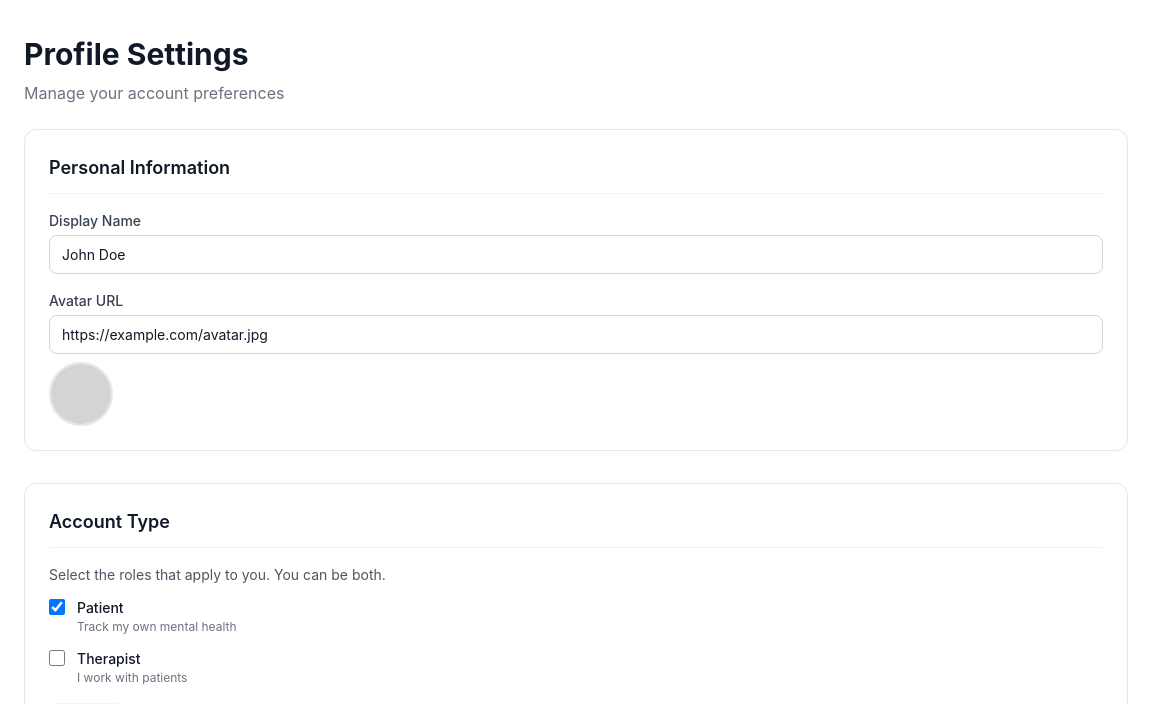
Test case: ProfileView › shows a validation error when all roles are deselected
This screenshot has width=1152, height=704.
What coordinates should you click on to do the following:
click the checkbox labelled "Patient Track my own mental health"
I would click on:
 (57, 607)
Its box is [49,599,65,615].
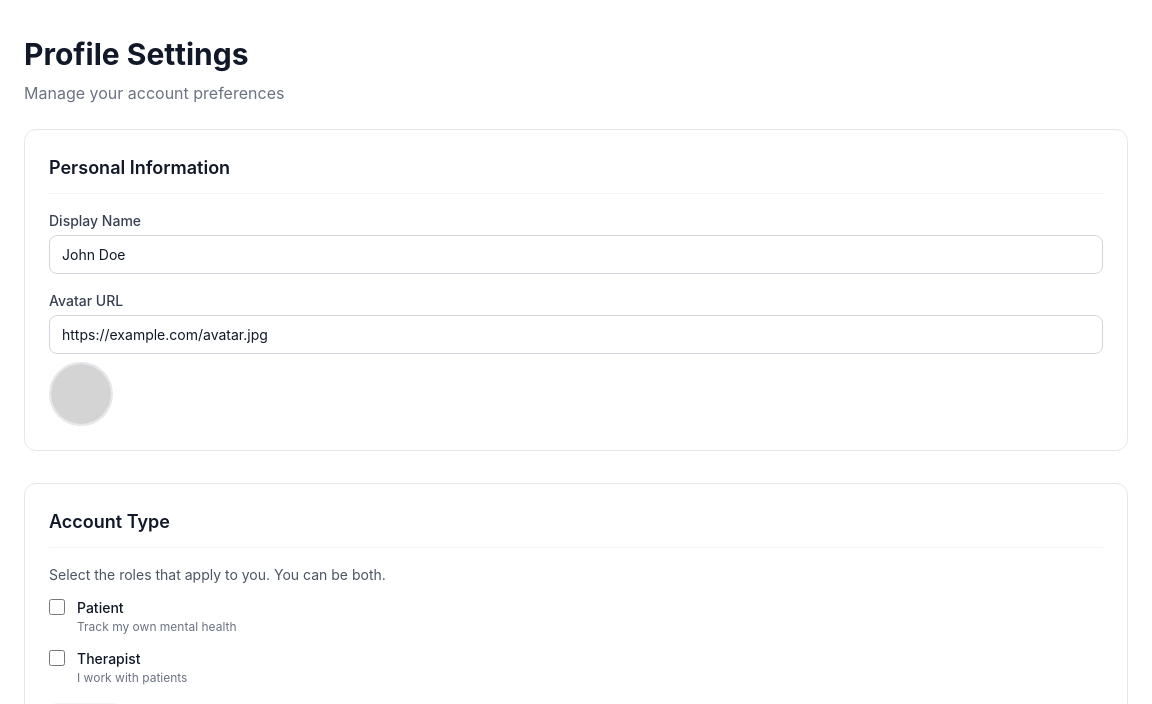
What coordinates should you click on to do the following:
click the checkbox labelled "Therapist I work with patients"
I would click on:
 (57, 658)
Its box is [49,650,65,666].
(page scrolled)
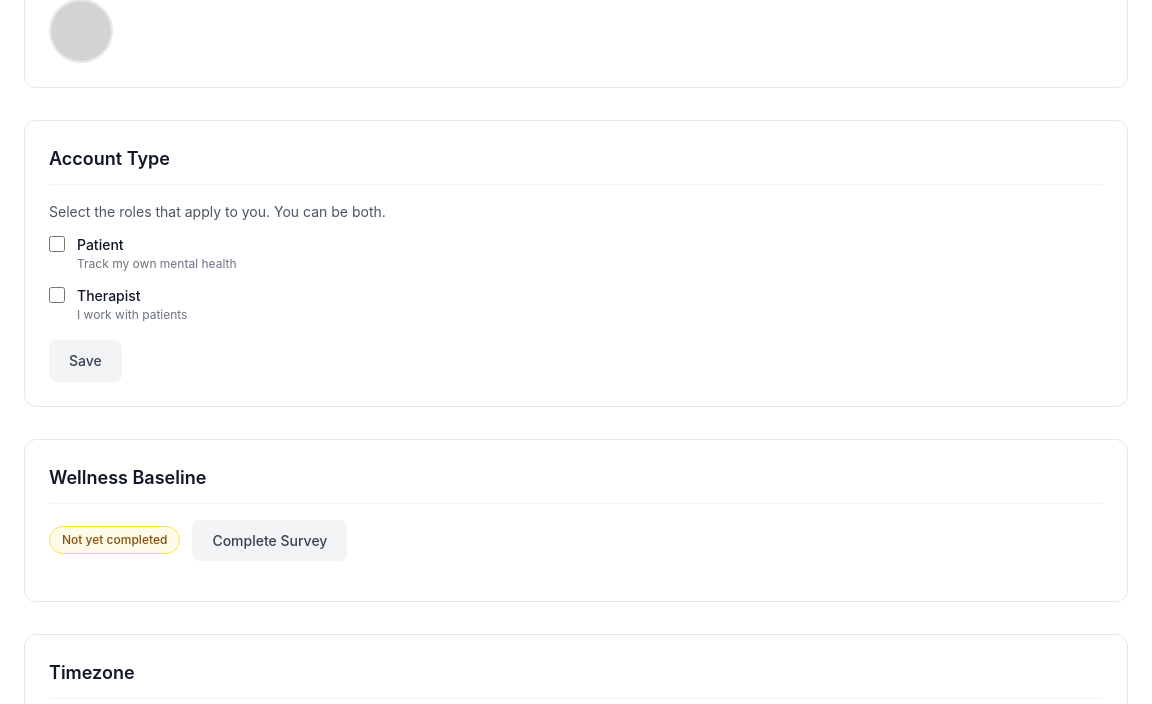
What coordinates should you click on to do the following:
click the button "Save"
I would click on:
 (85, 361)
Its box is [49,340,122,382].
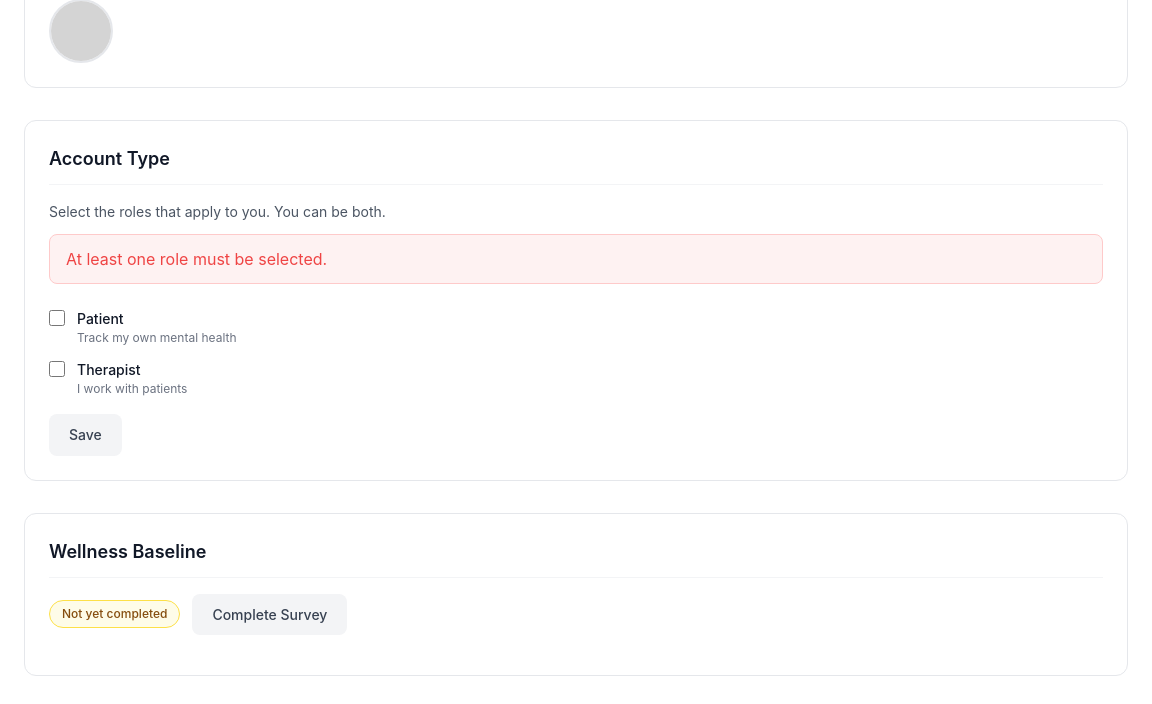
Result: the text "At least one role must be selected." is shown at [66,247,327,271]
